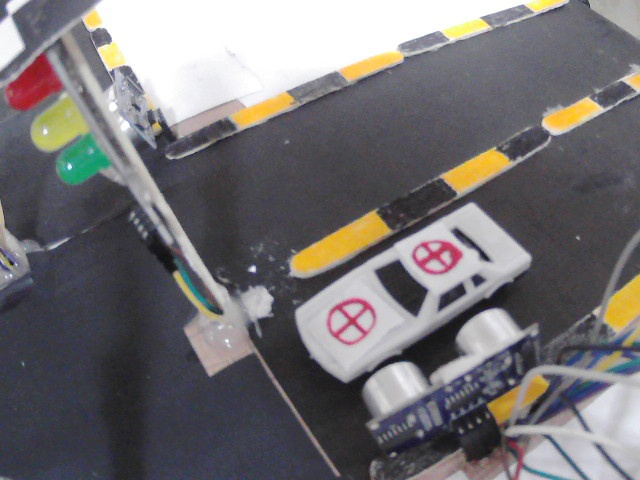emergency_vehicle: (290, 201, 535, 381)
traffic_light: (0, 40, 131, 193)
uno_breadboard: (359, 304, 546, 457), (102, 67, 154, 150)
